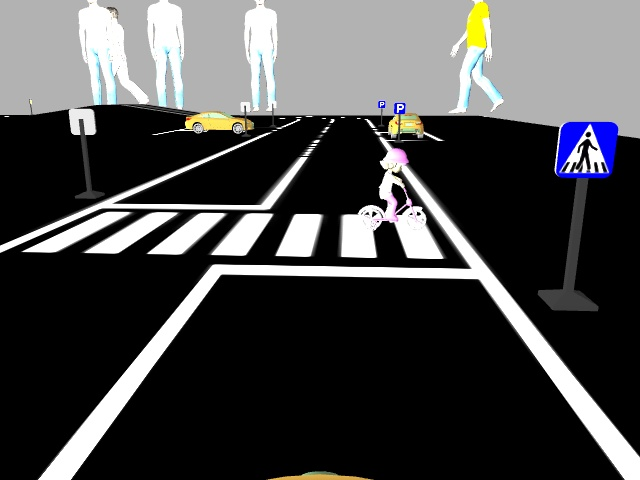Crosswalk: (552, 120, 618, 180)
Parking: (392, 101, 405, 114), (377, 100, 386, 107)
Pedestrian: (354, 146, 427, 232)
